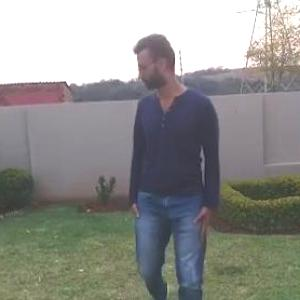follow: (122, 25, 227, 299)
